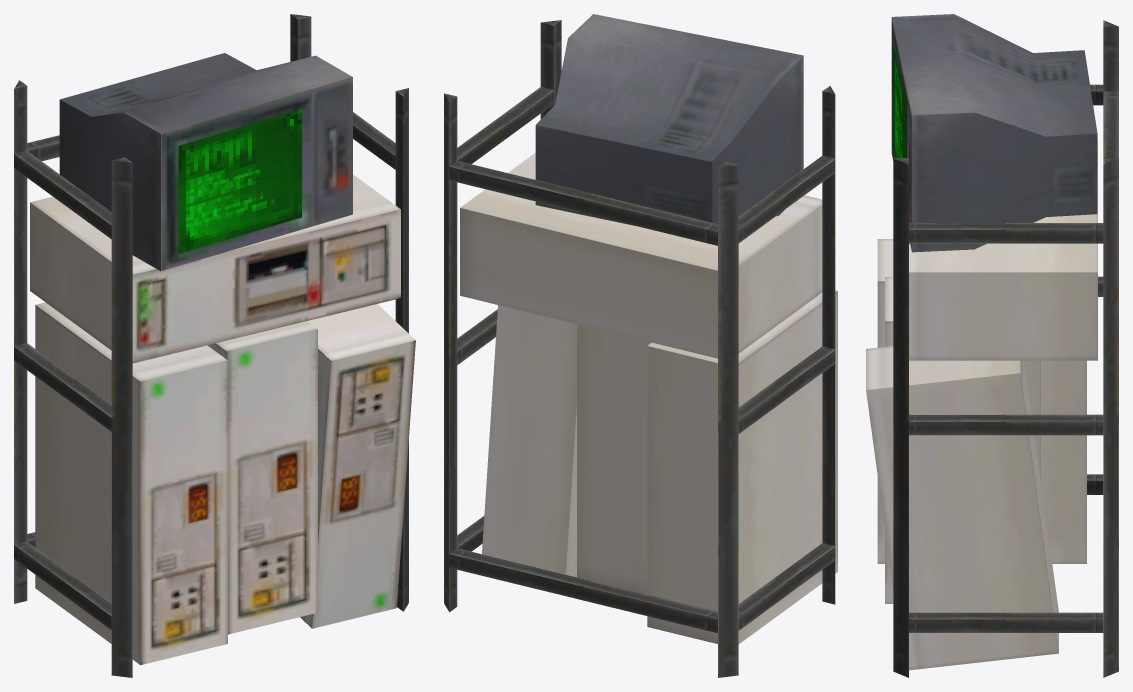
The model's file is MFrame3.glb.
3 renders of one model, left to right at view 1: azimuth 30°, elevation 25°; view 2: azimuth 150°, elevation 25°; view 3: azimuth 270°, elevation 25°, orthographic.
Parts seen in each view (by area): view 1: MFRAME3; view 2: MFRAME3; view 3: MFRAME3.
Boxes of the visible parts, box(x1,y1,x2,y2) form: MFRAME3: box(14, 14, 415, 677); MFRAME3: box(444, 14, 837, 677); MFRAME3: box(866, 14, 1118, 677).
Size of the model in its own units: 0.878 by 1.52 by 0.649.
2 materials, 2 textured.
